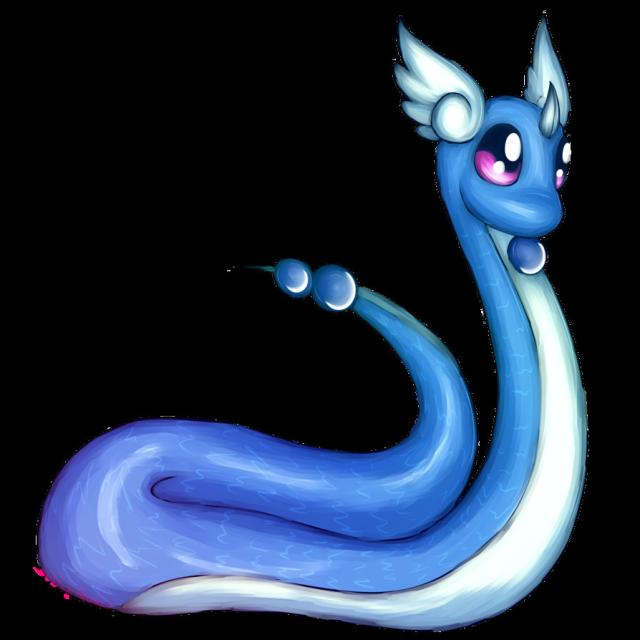Dragonair: (276, 35, 586, 620)
